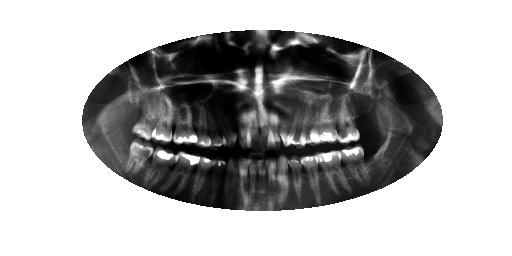Cavity: (225, 159, 239, 211)
Fillings: (162, 152, 200, 193), (316, 151, 349, 194), (144, 146, 176, 186), (339, 145, 371, 183), (310, 101, 337, 143), (152, 94, 173, 143), (337, 102, 362, 143), (174, 103, 199, 144), (191, 157, 213, 202)
